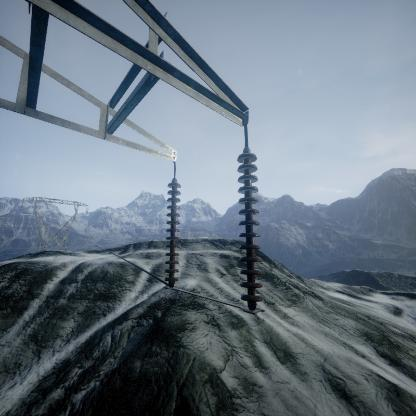insulator: (232, 147, 265, 307), (164, 177, 183, 288)
